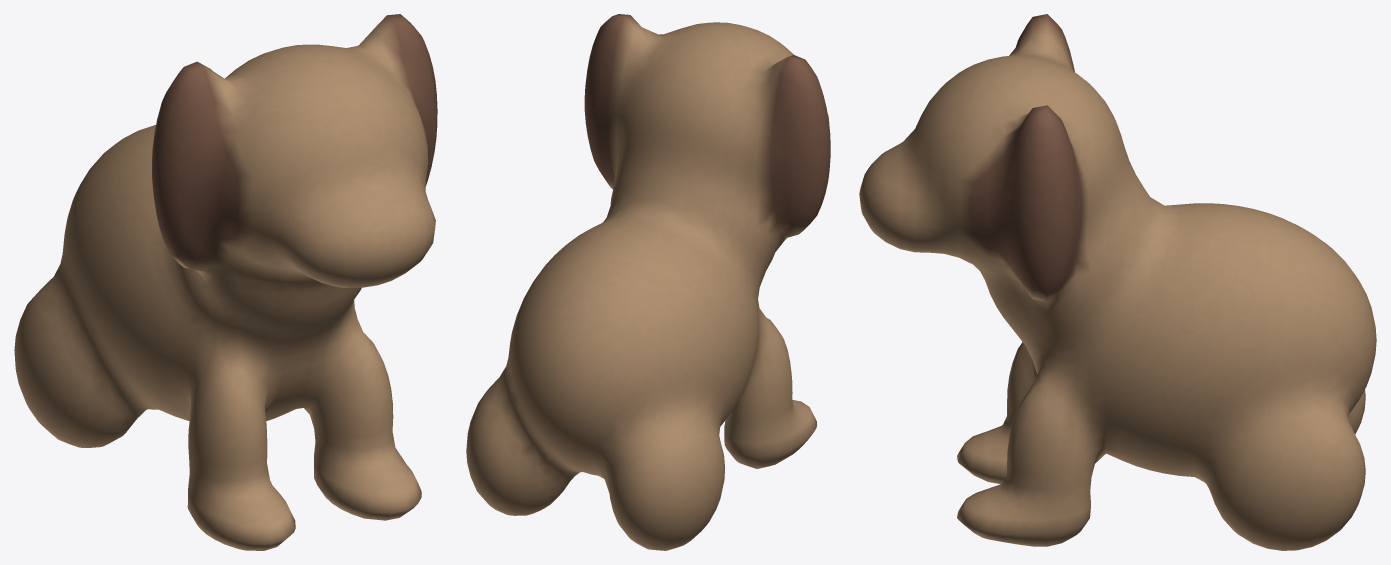
The model's file is puppy.glb.
The picture shows the model from 3 angles, left to right: view 1: azimuth 30°, elevation 25°; view 2: azimuth 150°, elevation 25°; view 3: azimuth 270°, elevation 25°; orthographic projection. The views are drawn at different scales.
Bounding box in the file's own units: 0.8375 × 1.39 × 1.44.
